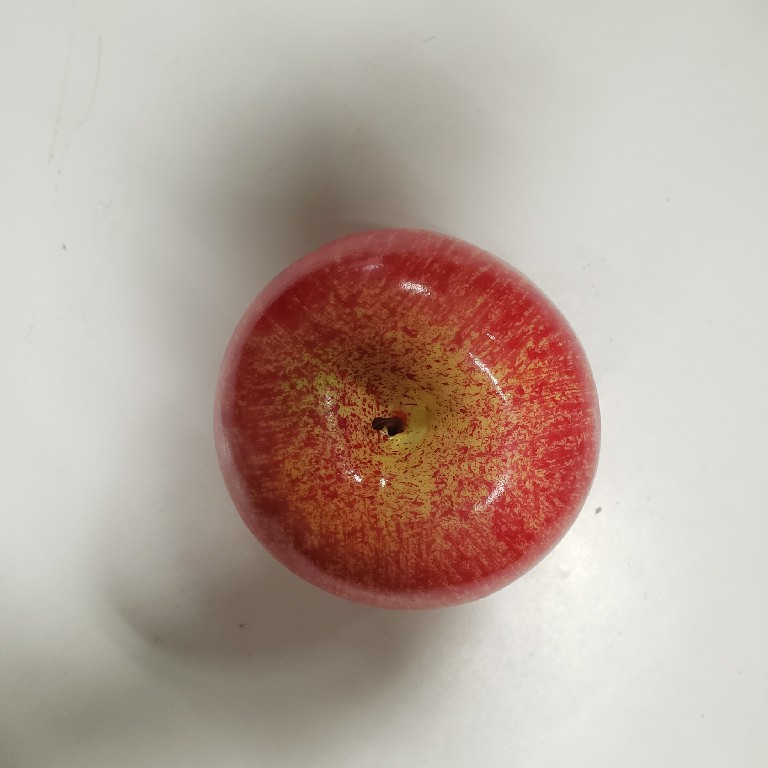fruit_apple: (203, 222, 607, 617)
